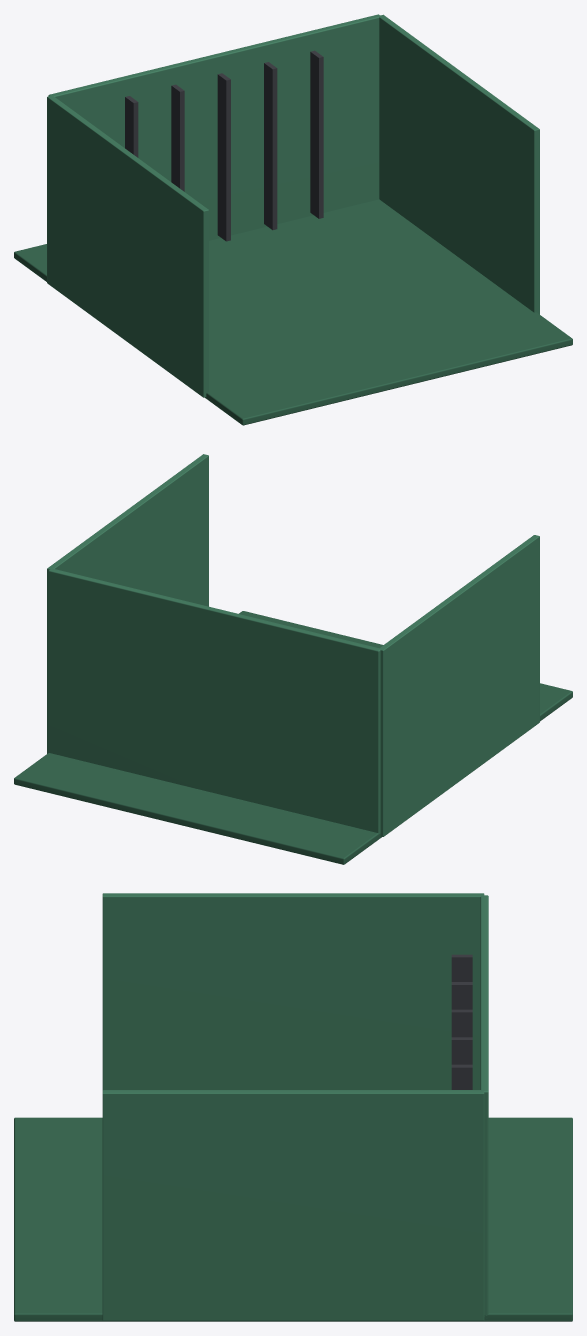
3 renders of one model, top to bottom at view 1: azimuth 30°, elevation 25°; view 2: azimuth 150°, elevation 25°; view 3: azimuth 270°, elevation 25°, orthographic. The views are drawn at different scales.
Visible parts, largest first — view 1: Room floor, Back wall, Left wall, Right wall, Green backlit wall fin.004, Green backlit wall fin.002, Green backlit wall fin.003, Green backlit wall fin.001, Green backlit wall fin; view 2: Back wall, Left wall, Room floor, Right wall; view 3: Right wall, Left wall, Room floor, Back wall, Green backlit wall fin.002, Green backlit wall fin.001, Green backlit wall fin.003, Green backlit wall fin, Green backlit wall fin.004.
Boxes of the visible parts, x1=… form: Room floor: x1=14, y1=199, x2=572, y2=425; Back wall: x1=48, y1=14, x2=380, y2=240; Left wall: x1=47, y1=95, x2=208, y2=397; Right wall: x1=379, y1=14, x2=539, y2=314; Green backlit wall fin.004: x1=310, y1=50, x2=323, y2=218; Green backlit wall fin.002: x1=217, y1=73, x2=230, y2=241; Green backlit wall fin.003: x1=264, y1=62, x2=277, y2=230; Green backlit wall fin.001: x1=171, y1=84, x2=184, y2=191; Green backlit wall fin: x1=125, y1=96, x2=138, y2=157; Back wall: x1=48, y1=568, x2=380, y2=833; Left wall: x1=379, y1=535, x2=539, y2=836; Room floor: x1=14, y1=611, x2=572, y2=864; Right wall: x1=47, y1=454, x2=208, y2=753; Right wall: x1=102, y1=1090, x2=484, y2=1320; Left wall: x1=102, y1=893, x2=484, y2=1089; Room floor: x1=14, y1=1117, x2=572, y2=1321; Back wall: x1=480, y1=895, x2=488, y2=1318; Green backlit wall fin.002: x1=451, y1=1009, x2=472, y2=1037; Green backlit wall fin.001: x1=451, y1=982, x2=472, y2=1009; Green backlit wall fin.003: x1=451, y1=1037, x2=472, y2=1064; Green backlit wall fin: x1=451, y1=954, x2=472, y2=981; Green backlit wall fin.004: x1=451, y1=1064, x2=472, y2=1089.
Size of the model in its own units: 10.18 by 5.47 by 12.
